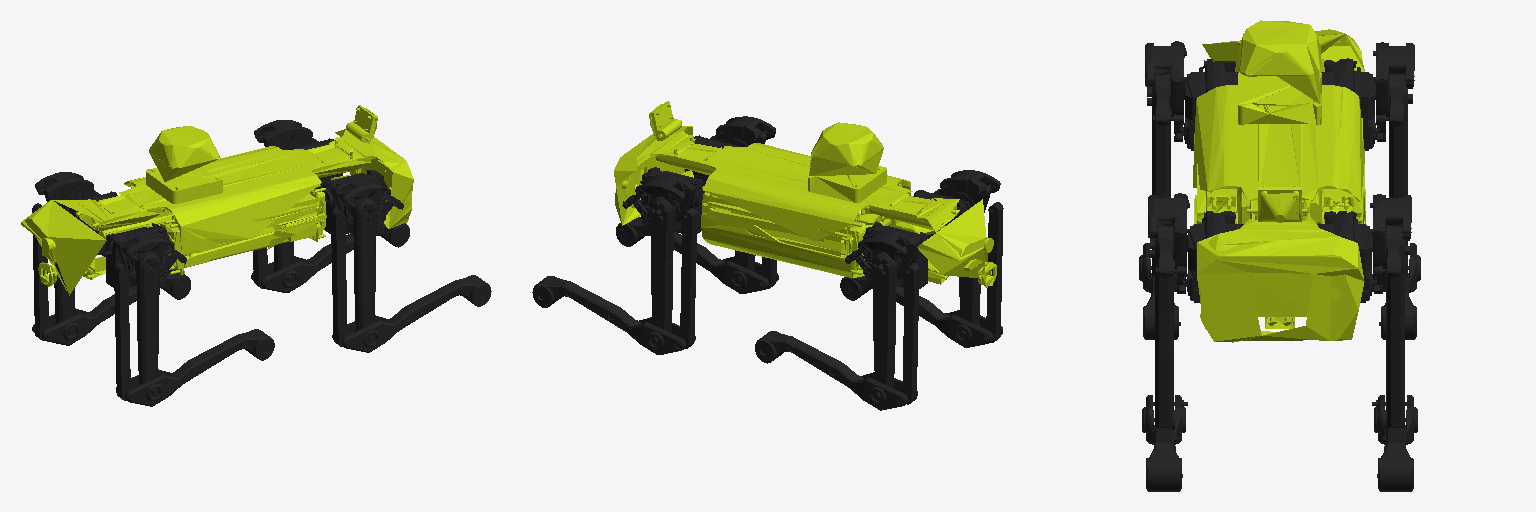
URDF robot description (strido):
<?xml version="1.0"?>
<!-- GENERATED by strido_cad.models from the verified CAD assembly - do not edit. -->
<robot name="strido">
  <material name="lime"><color rgba="0.78 0.88 0.12 1"/></material>
  <material name="graphite"><color rgba="0.18 0.18 0.19 1"/></material>
  <link name="base_link">
    <visual><geometry><mesh filename="../meshes/base_link.stl"/></geometry><material name="lime"/></visual>
    <collision><origin xyz="-0.000461314 1.9001e-05 0.000601007"/><geometry><box size="0.374091 0.114096 0.0995706"/></geometry></collision>
    <inertial>
      <origin xyz="0.00533714 0.000164431 -0.00651363" rpy="0 0 0"/>
      <mass value="1.70851"/>
      <inertia ixx="0.00261131" ixy="-8.21703e-07" ixz="0.000164474" iyy="0.0137536" iyz="1.70834e-05" izz="0.0137853"/>
    </inertial>
  </link>
  <link name="FL_hip">
    <visual><geometry><mesh filename="../meshes/FL_hip.stl"/></geometry><material name="graphite"/></visual>
    <inertial>
      <origin xyz="0.0082456 0.00976004 -0.00566959" rpy="0 0 0"/>
      <mass value="0.238911"/>
      <inertia ixx="7.15816e-05" ixy="4.56068e-06" ixz="6.63265e-06" iyy="6.67418e-05" iyz="-1.5388e-05" izz="6.32592e-05"/>
    </inertial>
  </link>
  <link name="FL_thigh">
    <visual><geometry><mesh filename="../meshes/FL_thigh.stl"/></geometry><material name="graphite"/></visual>
    <collision><origin xyz="0 0 -0.0649994"/><geometry><cylinder radius="0.011" length="0.129999"/></geometry></collision>
    <inertial>
      <origin xyz="-0.0082624 -0.00171585 -0.0468724" rpy="0 0 0"/>
      <mass value="0.0505958"/>
      <inertia ixx="0.000106437" ixy="1.40387e-07" ixz="-7.12122e-06" iyy="0.000114145" iyz="2.68886e-06" izz="1.04389e-05"/>
    </inertial>
  </link>
  <link name="FL_calf">
    <visual><geometry><mesh filename="../meshes/FL_calf.stl"/></geometry><material name="graphite"/></visual>
    <collision><origin xyz="0 0 -0.0620312"/><geometry><cylinder radius="0.009" length="0.0992499"/></geometry></collision>
    <inertial>
      <origin xyz="0.00157276 -0.00024066 -0.0483311" rpy="0 0 0"/>
      <mass value="0.0520587"/>
      <inertia ixx="0.000149829" ixy="2.85251e-08" ixz="4.86832e-06" iyy="0.000148958" iyz="-1.27588e-07" izz="4.84964e-06"/>
    </inertial>
  </link>
  <link name="FL_foot">
    <collision><geometry><sphere radius="0.0119802"/></geometry></collision>
    <inertial><mass value="0.001"/><inertia ixx="1e-8" ixy="0" ixz="0" iyy="1e-8" iyz="0" izz="1e-8"/></inertial>
  </link>
  <joint name="FL_hip_joint" type="revolute">
    <parent link="base_link"/><child link="FL_hip"/>
    <origin xyz="0.119673 0.039 0" rpy="0 0 0"/><axis xyz="1 0 0"/>
    <limit lower="-0.305433" upper="0.872665" effort="3.432" velocity="7.48"/>
    <dynamics damping="0.05" friction="0.02"/>
  </joint>
  <joint name="FL_thigh_joint" type="revolute">
    <parent link="FL_hip"/><child link="FL_thigh"/>
    <origin xyz="0 0.0382569 0" rpy="0 0 0"/><axis xyz="0 1 0"/>
    <limit lower="-0.698132" upper="2.18166" effort="3.432" velocity="7.48"/>
    <dynamics damping="0.05" friction="0.02"/>
  </joint>
  <joint name="FL_calf_joint" type="revolute">
    <parent link="FL_thigh"/><child link="FL_calf"/>
    <origin xyz="0 0 -0.129999" rpy="0 0 0"/><axis xyz="0 1 0"/>
    <limit lower="-2.61799" upper="-0.785398" effort="3.432" velocity="7.48"/>
    <dynamics damping="0.05" friction="0.02"/>
  </joint>
  <joint name="FL_foot_joint" type="fixed"><parent link="FL_calf"/><child link="FL_foot"/><origin xyz="0 0 -0.124062"/></joint>
  <link name="FR_hip">
    <visual><geometry><mesh filename="../meshes/FR_hip.stl"/></geometry><material name="graphite"/></visual>
    <inertial>
      <origin xyz="0.00824655 -0.00975914 -0.00566936" rpy="0 0 0"/>
      <mass value="0.238911"/>
      <inertia ixx="7.15862e-05" ixy="-4.55375e-06" ixz="6.62781e-06" iyy="6.67299e-05" iyz="1.53861e-05" izz="6.32633e-05"/>
    </inertial>
  </link>
  <link name="FR_thigh">
    <visual><geometry><mesh filename="../meshes/FR_thigh.stl"/></geometry><material name="graphite"/></visual>
    <collision><origin xyz="0 0 -0.0649994"/><geometry><cylinder radius="0.011" length="0.129999"/></geometry></collision>
    <inertial>
      <origin xyz="-0.00825812 0.00172085 -0.0468808" rpy="0 0 0"/>
      <mass value="0.0505958"/>
      <inertia ixx="0.00010642" ixy="-1.40979e-07" ixz="-7.10351e-06" iyy="0.000114131" iyz="-2.67864e-06" izz="1.04414e-05"/>
    </inertial>
  </link>
  <link name="FR_calf">
    <visual><geometry><mesh filename="../meshes/FR_calf.stl"/></geometry><material name="graphite"/></visual>
    <collision><origin xyz="0 0 -0.0620312"/><geometry><cylinder radius="0.009" length="0.0992499"/></geometry></collision>
    <inertial>
      <origin xyz="0.00157633 0.000227239 -0.0483187" rpy="0 0 0"/>
      <mass value="0.0520587"/>
      <inertia ixx="0.000149816" ixy="-2.51644e-08" ixz="4.8755e-06" iyy="0.000148944" iyz="9.5213e-08" izz="4.85095e-06"/>
    </inertial>
  </link>
  <link name="FR_foot">
    <collision><geometry><sphere radius="0.0119802"/></geometry></collision>
    <inertial><mass value="0.001"/><inertia ixx="1e-8" ixy="0" ixz="0" iyy="1e-8" iyz="0" izz="1e-8"/></inertial>
  </link>
  <joint name="FR_hip_joint" type="revolute">
    <parent link="base_link"/><child link="FR_hip"/>
    <origin xyz="0.119673 -0.039 0" rpy="0 0 0"/><axis xyz="1 0 0"/>
    <limit lower="-0.872665" upper="0.305433" effort="3.432" velocity="7.48"/>
    <dynamics damping="0.05" friction="0.02"/>
  </joint>
  <joint name="FR_thigh_joint" type="revolute">
    <parent link="FR_hip"/><child link="FR_thigh"/>
    <origin xyz="0 -0.0382569 0" rpy="0 0 0"/><axis xyz="0 1 0"/>
    <limit lower="-0.698132" upper="2.18166" effort="3.432" velocity="7.48"/>
    <dynamics damping="0.05" friction="0.02"/>
  </joint>
  <joint name="FR_calf_joint" type="revolute">
    <parent link="FR_thigh"/><child link="FR_calf"/>
    <origin xyz="0 0 -0.129999" rpy="0 0 0"/><axis xyz="0 1 0"/>
    <limit lower="-2.61799" upper="-0.785398" effort="3.432" velocity="7.48"/>
    <dynamics damping="0.05" friction="0.02"/>
  </joint>
  <joint name="FR_foot_joint" type="fixed"><parent link="FR_calf"/><child link="FR_foot"/><origin xyz="0 0 -0.124062"/></joint>
  <link name="RL_hip">
    <visual><geometry><mesh filename="../meshes/RL_hip.stl"/></geometry><material name="graphite"/></visual>
    <inertial>
      <origin xyz="0.00918348 0.0114594 -0.00569306" rpy="0 0 0"/>
      <mass value="0.238587"/>
      <inertia ixx="7.25942e-05" ixy="7.1069e-06" ixz="5.32866e-06" iyy="6.70418e-05" iyz="-1.54201e-05" izz="6.4687e-05"/>
    </inertial>
  </link>
  <link name="RL_thigh">
    <visual><geometry><mesh filename="../meshes/RL_thigh.stl"/></geometry><material name="graphite"/></visual>
    <collision><origin xyz="0 0 -0.0649994"/><geometry><cylinder radius="0.011" length="0.129999"/></geometry></collision>
    <inertial>
      <origin xyz="-0.00826352 -0.00171733 -0.0468694" rpy="0 0 0"/>
      <mass value="0.0505958"/>
      <inertia ixx="0.000106431" ixy="1.40602e-07" ixz="-7.12202e-06" iyy="0.000114138" iyz="2.68222e-06" izz="1.04375e-05"/>
    </inertial>
  </link>
  <link name="RL_calf">
    <visual><geometry><mesh filename="../meshes/RL_calf.stl"/></geometry><material name="graphite"/></visual>
    <collision><origin xyz="0 0 -0.0620312"/><geometry><cylinder radius="0.009" length="0.0992499"/></geometry></collision>
    <inertial>
      <origin xyz="0.00157345 -0.000240654 -0.0483317" rpy="0 0 0"/>
      <mass value="0.0520587"/>
      <inertia ixx="0.00014983" ixy="2.87292e-08" ixz="4.86705e-06" iyy="0.000148959" iyz="-1.28311e-07" izz="4.84913e-06"/>
    </inertial>
  </link>
  <link name="RL_foot">
    <collision><geometry><sphere radius="0.0119802"/></geometry></collision>
    <inertial><mass value="0.001"/><inertia ixx="1e-8" ixy="0" ixz="0" iyy="1e-8" iyz="0" izz="1e-8"/></inertial>
  </link>
  <joint name="RL_hip_joint" type="revolute">
    <parent link="base_link"/><child link="RL_hip"/>
    <origin xyz="-0.119673 0.039 -0" rpy="0 0 0"/><axis xyz="1 0 0"/>
    <limit lower="-0.305433" upper="0.785398" effort="3.432" velocity="7.48"/>
    <dynamics damping="0.05" friction="0.02"/>
  </joint>
  <joint name="RL_thigh_joint" type="revolute">
    <parent link="RL_hip"/><child link="RL_thigh"/>
    <origin xyz="0 0.04025 0" rpy="0 0 0"/><axis xyz="0 1 0"/>
    <limit lower="-0.261799" upper="2.18166" effort="3.432" velocity="7.48"/>
    <dynamics damping="0.05" friction="0.02"/>
  </joint>
  <joint name="RL_calf_joint" type="revolute">
    <parent link="RL_thigh"/><child link="RL_calf"/>
    <origin xyz="0 0 -0.129999" rpy="0 0 0"/><axis xyz="0 1 0"/>
    <limit lower="-2.61799" upper="-0.785398" effort="3.432" velocity="7.48"/>
    <dynamics damping="0.05" friction="0.02"/>
  </joint>
  <joint name="RL_foot_joint" type="fixed"><parent link="RL_calf"/><child link="RL_foot"/><origin xyz="0 0 -0.124062"/></joint>
  <link name="RR_hip">
    <visual><geometry><mesh filename="../meshes/RR_hip.stl"/></geometry><material name="graphite"/></visual>
    <inertial>
      <origin xyz="0.00918413 -0.0114616 -0.00569384" rpy="0 0 0"/>
      <mass value="0.238587"/>
      <inertia ixx="7.2594e-05" ixy="-7.10406e-06" ixz="5.33127e-06" iyy="6.70427e-05" iyz="1.54244e-05" izz="6.46792e-05"/>
    </inertial>
  </link>
  <link name="RR_thigh">
    <visual><geometry><mesh filename="../meshes/RR_thigh.stl"/></geometry><material name="graphite"/></visual>
    <collision><origin xyz="0 0 -0.0649994"/><geometry><cylinder radius="0.011" length="0.129999"/></geometry></collision>
    <inertial>
      <origin xyz="-0.00825819 0.00172099 -0.0468808" rpy="0 0 0"/>
      <mass value="0.0505958"/>
      <inertia ixx="0.00010642" ixy="-1.40876e-07" ixz="-7.10365e-06" iyy="0.000114131" iyz="-2.67849e-06" izz="1.04413e-05"/>
    </inertial>
  </link>
  <link name="RR_calf">
    <visual><geometry><mesh filename="../meshes/RR_calf.stl"/></geometry><material name="graphite"/></visual>
    <collision><origin xyz="0 0 -0.0620312"/><geometry><cylinder radius="0.009" length="0.0992499"/></geometry></collision>
    <inertial>
      <origin xyz="0.00157756 0.000225557 -0.0483289" rpy="0 0 0"/>
      <mass value="0.0520587"/>
      <inertia ixx="0.000149829" ixy="-2.48455e-08" ixz="4.87482e-06" iyy="0.000148956" iyz="8.77435e-08" izz="4.85192e-06"/>
    </inertial>
  </link>
  <link name="RR_foot">
    <collision><geometry><sphere radius="0.0119802"/></geometry></collision>
    <inertial><mass value="0.001"/><inertia ixx="1e-8" ixy="0" ixz="0" iyy="1e-8" iyz="0" izz="1e-8"/></inertial>
  </link>
  <joint name="RR_hip_joint" type="revolute">
    <parent link="base_link"/><child link="RR_hip"/>
    <origin xyz="-0.119673 -0.039 -0" rpy="0 0 0"/><axis xyz="1 0 0"/>
    <limit lower="-0.785398" upper="0.305433" effort="3.432" velocity="7.48"/>
    <dynamics damping="0.05" friction="0.02"/>
  </joint>
  <joint name="RR_thigh_joint" type="revolute">
    <parent link="RR_hip"/><child link="RR_thigh"/>
    <origin xyz="0 -0.04025 0" rpy="0 0 0"/><axis xyz="0 1 0"/>
    <limit lower="-0.261799" upper="2.18166" effort="3.432" velocity="7.48"/>
    <dynamics damping="0.05" friction="0.02"/>
  </joint>
  <joint name="RR_calf_joint" type="revolute">
    <parent link="RR_thigh"/><child link="RR_calf"/>
    <origin xyz="0 0 -0.129999" rpy="0 0 0"/><axis xyz="0 1 0"/>
    <limit lower="-2.61799" upper="-0.785398" effort="3.432" velocity="7.48"/>
    <dynamics damping="0.05" friction="0.02"/>
  </joint>
  <joint name="RR_foot_joint" type="fixed"><parent link="RR_calf"/><child link="RR_foot"/><origin xyz="0 0 -0.124062"/></joint>
  <link name="imu_link"/>
  <joint name="imu_link_joint" type="fixed"><parent link="base_link"/><child link="imu_link"/><origin xyz="0.041953 -0.0043 -0.0110833" rpy="0 0 0"/></joint>
  <link name="lidar_link"/>
  <joint name="lidar_link_joint" type="fixed"><parent link="base_link"/><child link="lidar_link"/><origin xyz="-0.034157 0 0.0716167" rpy="0 0 0"/></joint>
  <link name="camera_link"/>
  <joint name="camera_link_joint" type="fixed"><parent link="base_link"/><child link="camera_link"/><origin xyz="0.174153 0 0.0488167" rpy="0 0.261799 0"/></joint>
  <link name="camera_optical_frame"/>
  <joint name="camera_optical_joint" type="fixed"><parent link="camera_link"/><child link="camera_optical_frame"/><origin xyz="0 0 0" rpy="-1.5707963 0 -1.5707963"/></joint>
</robot>

--- What the picture shows (computed from the rendered views, not written in the file) ---
The picture shows the robot from 3 angles, left to right: view 1: azimuth 30°, elevation 25°; view 2: azimuth 150°, elevation 25°; view 3: azimuth 270°, elevation 25°; orthographic projection.
Model strido with 21 links and 20 joints (12 revolute, 8 fixed), rooted at base_link, posed joints at zero except 4 at the middle of their limits (FL_calf_joint = -1.7, FR_calf_joint = -1.7, RL_calf_joint = -1.7, RR_calf_joint = -1.7).
Links seen in each view (by area): view 1: base_link, FR_thigh, RR_thigh, RR_calf, FR_calf, RR_hip, FR_hip, RL_calf, FL_calf, RL_thigh, RL_hip, FL_hip (+1 smaller); view 2: base_link, RL_thigh, FL_thigh, RL_calf, FL_calf, RR_thigh, RL_hip, FL_hip, FR_calf, RR_calf, RR_hip, FR_hip (+1 smaller); view 3: base_link, RL_hip, RR_hip, FL_hip, FR_hip, FR_thigh, FL_thigh, FR_calf, FL_calf, RR_thigh, RL_thigh, RL_calf (+1 smaller).
Link boxes in pixels (box(x1,y1,x2,y2)): base_link: box(21, 105, 413, 295); FR_thigh: box(331, 197, 377, 346); RR_thigh: box(114, 250, 161, 400); RR_calf: box(116, 329, 274, 406); FR_calf: box(332, 275, 491, 352); RR_hip: box(102, 223, 186, 287); FR_hip: box(322, 170, 403, 233); RL_calf: box(32, 269, 190, 345); FL_calf: box(251, 223, 409, 292); RL_thigh: box(32, 195, 82, 340); RL_hip: box(35, 172, 117, 254); FL_hip: box(254, 120, 342, 188); base_link: box(614, 101, 996, 287); RL_thigh: box(871, 251, 919, 404); FL_thigh: box(648, 195, 696, 348); RL_calf: box(755, 331, 917, 410); FL_calf: box(532, 276, 695, 354); RR_thigh: box(952, 193, 1003, 342); RL_hip: box(845, 221, 927, 288); FL_hip: box(622, 167, 704, 233); FR_calf: box(616, 217, 778, 293); RR_calf: box(840, 276, 1002, 347); RR_hip: box(913, 170, 1000, 238); FR_hip: box(685, 116, 775, 183); base_link: box(1193, 20, 1365, 342); RL_hip: box(1321, 42, 1414, 150); RR_hip: box(1145, 41, 1238, 150); FL_hip: box(1317, 194, 1411, 302); FR_hip: box(1148, 193, 1243, 302); FR_thigh: box(1150, 228, 1173, 428); FL_thigh: box(1386, 225, 1409, 428); FR_calf: box(1142, 395, 1187, 491); FL_calf: box(1372, 395, 1417, 491); RR_thigh: box(1147, 76, 1170, 276); RL_thigh: box(1389, 73, 1412, 276); RL_calf: box(1379, 243, 1420, 339).
Size in the robot's own frame: 0.44 by 0.1883 by 0.2282 metres.
Meshes: 13 distinct files referenced, 13 mesh visuals loaded (13 binary STL).
